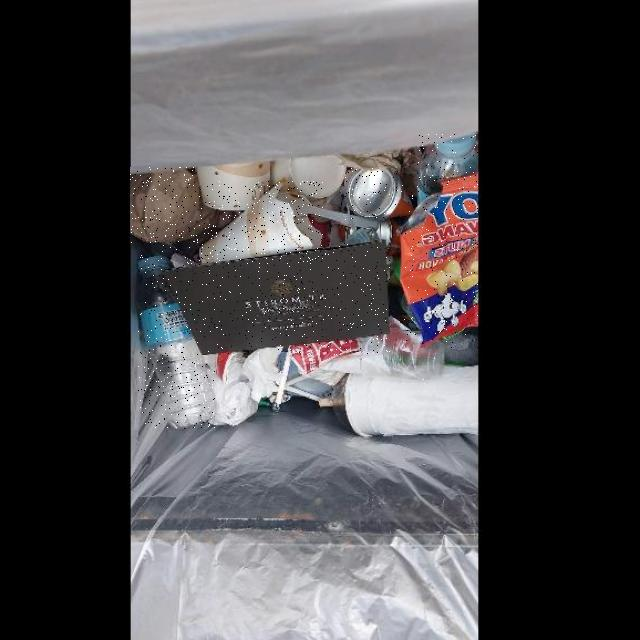metal: (345, 168, 414, 220)
paper: (162, 241, 390, 354), (198, 181, 323, 263), (130, 167, 229, 243), (196, 158, 273, 210)
plastic: (138, 255, 215, 428), (418, 133, 478, 201)
wrapper: (400, 170, 478, 347)
